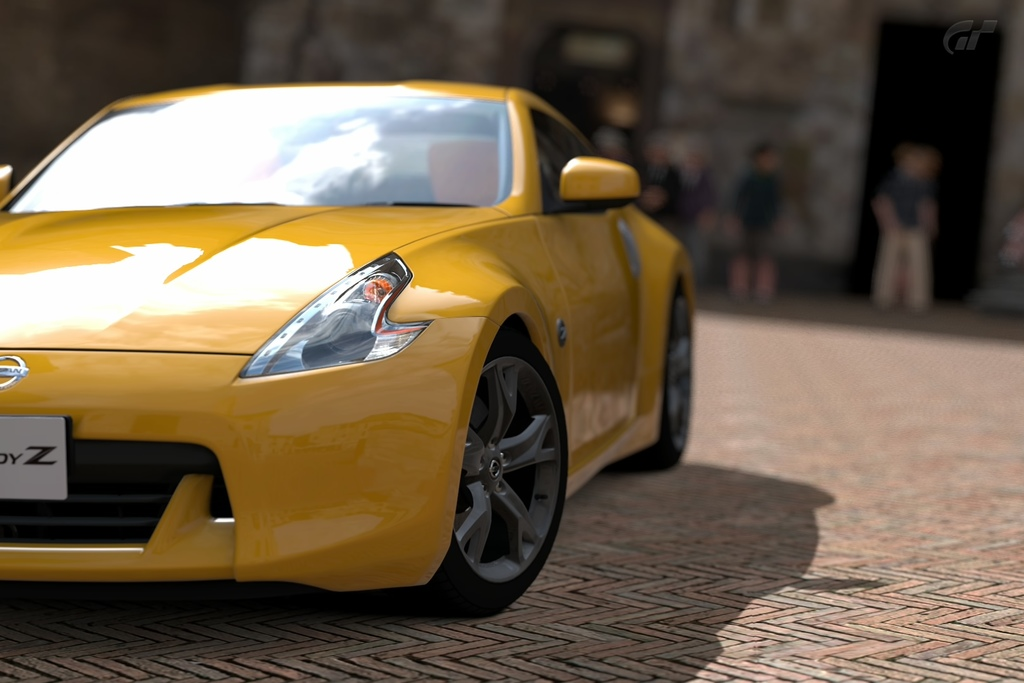person: (722, 139, 788, 302)
